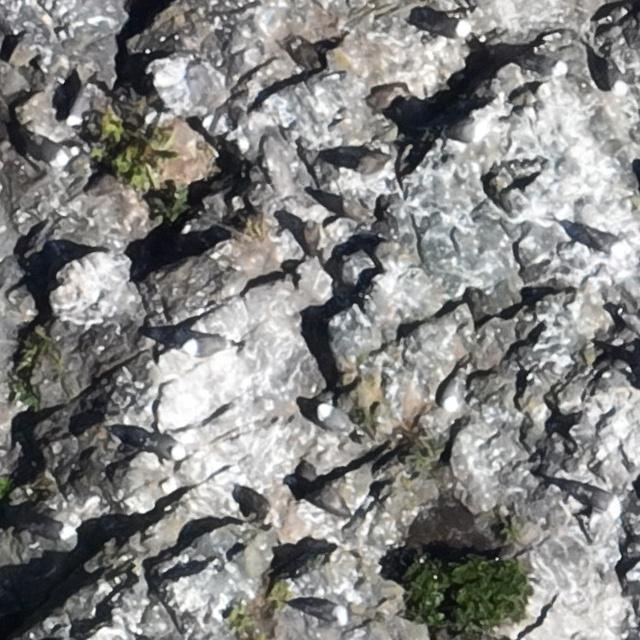umineko: (587, 224, 632, 262), (300, 598, 351, 627), (28, 131, 68, 166), (416, 14, 474, 38), (604, 45, 630, 98), (580, 487, 622, 519), (183, 334, 238, 358), (444, 364, 470, 413), (524, 52, 568, 79), (70, 87, 97, 127), (446, 120, 493, 142), (146, 436, 185, 457), (320, 407, 351, 431), (36, 523, 68, 540)
